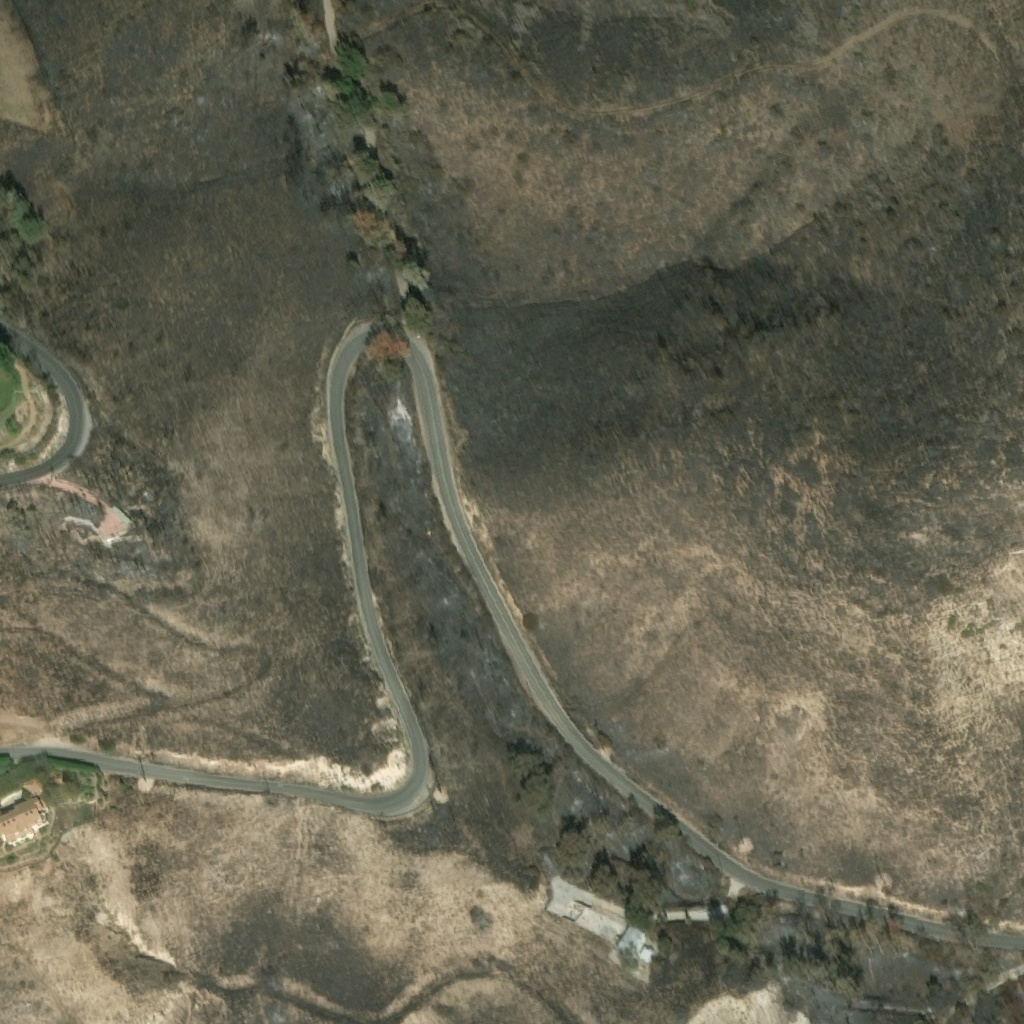0 no-damage: (0, 791, 43, 848)
1 minor-damage: (574, 901, 629, 945), (618, 927, 646, 957), (110, 505, 132, 528), (548, 897, 566, 916), (637, 946, 653, 964), (568, 908, 576, 919)
3 destroyed: (143, 492, 155, 502)
